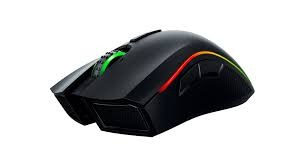mouse: (46, 16, 264, 143)
